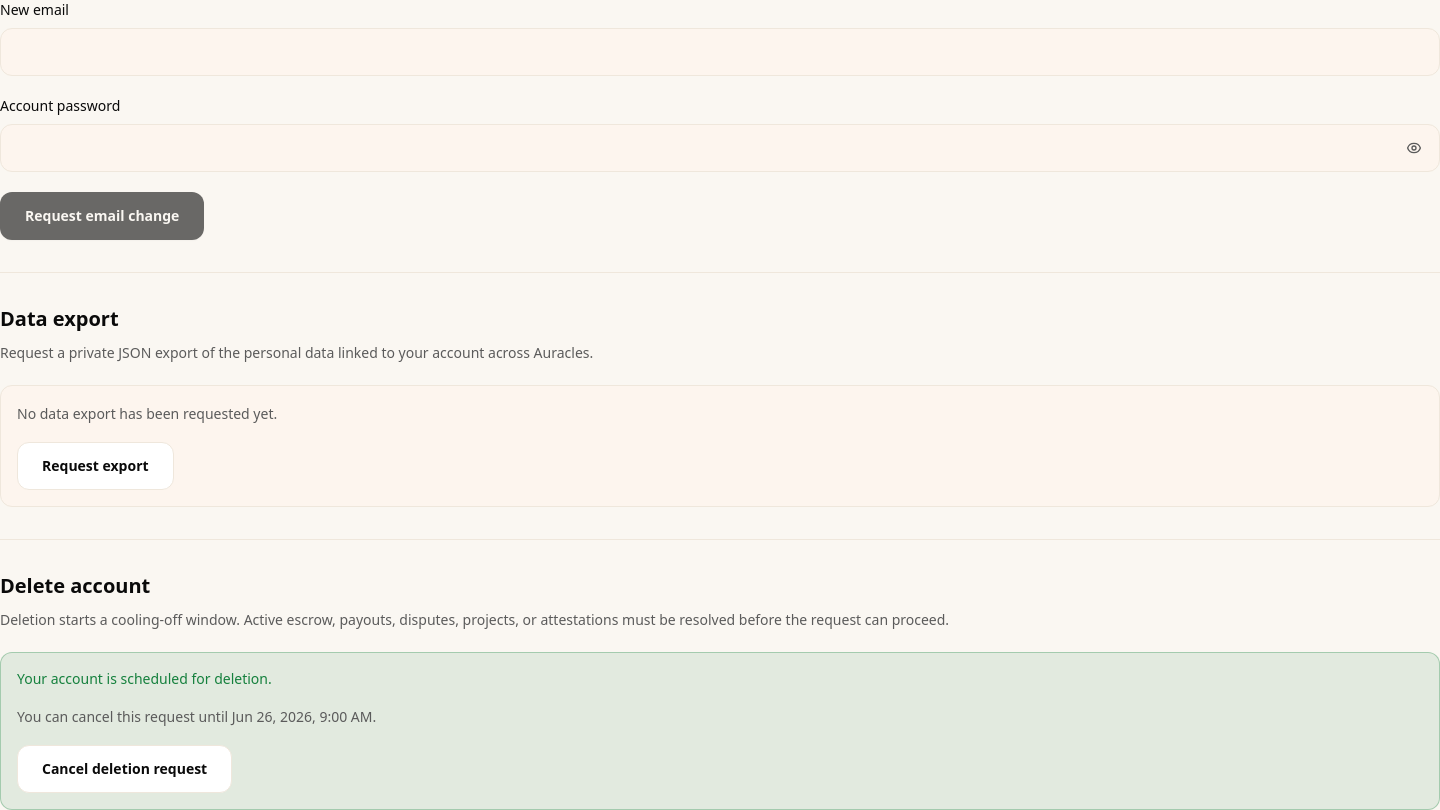
Test: AccountSettingsPanel › loads a scheduled deletion request and lets the user cancel it
(page scrolled)
Expected: the text "Your account is scheduled for deletion." is shown, [17,669,272,688]
Click the button "Cancel deletion request".
click(125, 769)  # box [17,745,232,793]
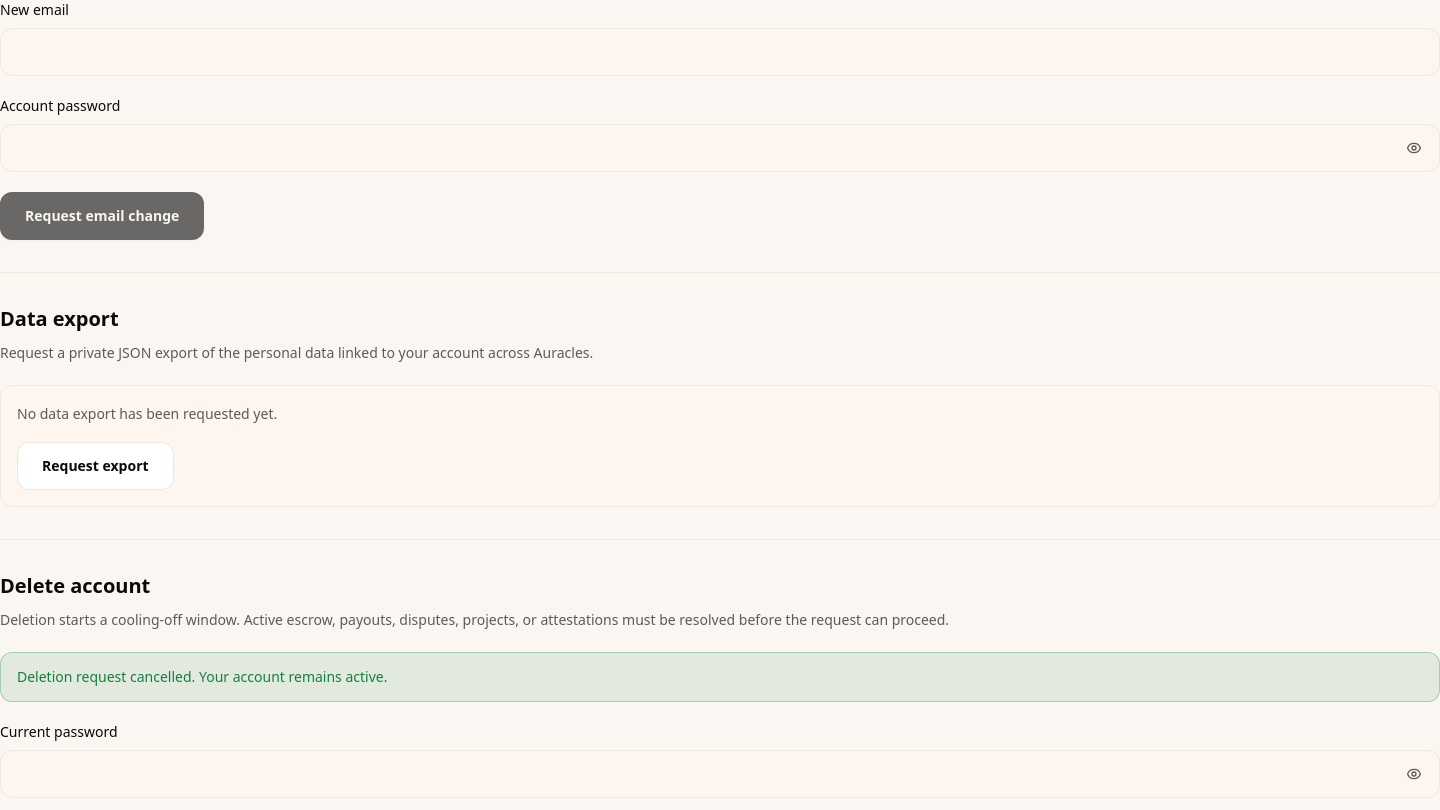
Expected: the text "Deletion request cancelled. Your account remains active." is shown, [0,652,1439,702]
